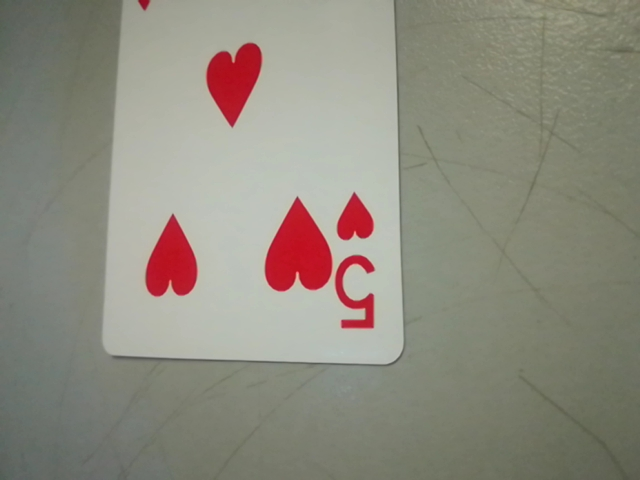hx 5: (326, 187, 394, 348)
